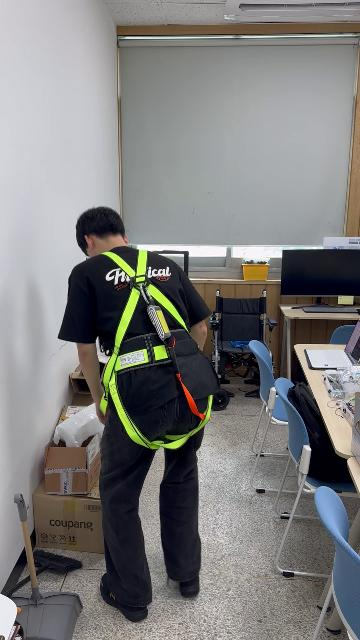helmet_not_worn: (68, 204, 128, 251)
shoe_worn: (100, 574, 148, 622), (179, 575, 199, 598)
vest_worn: (93, 253, 213, 448)
